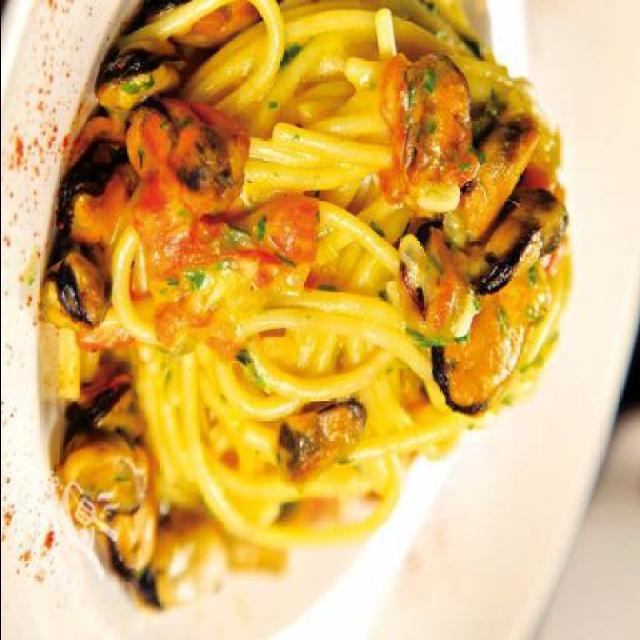Pasta with carbonara sauce: (33, 9, 596, 606)
